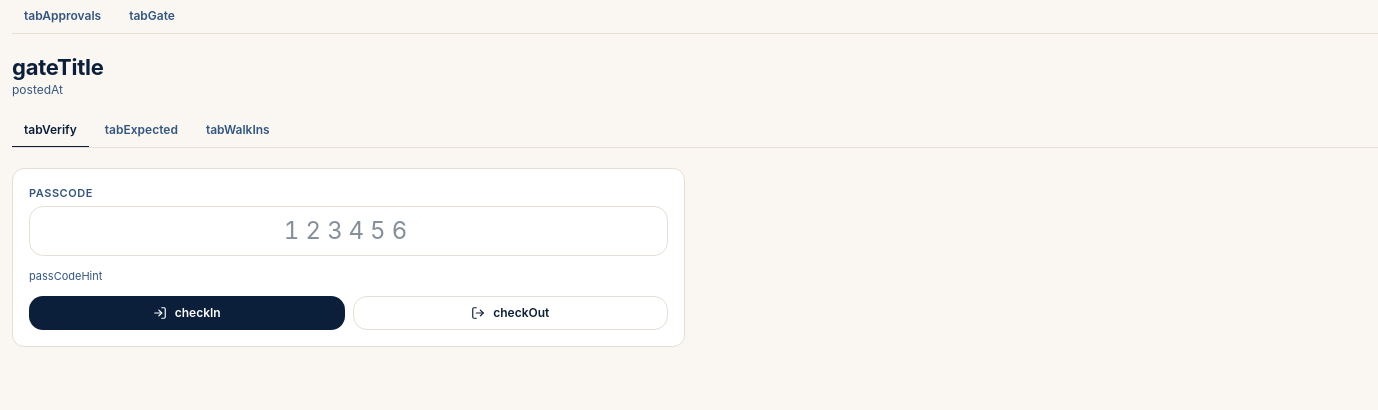
Test: Gate desk › says so when the gate is rate limited
In the field with test id "gate-code": (348, 231) [29,206,668,256], type "482913"
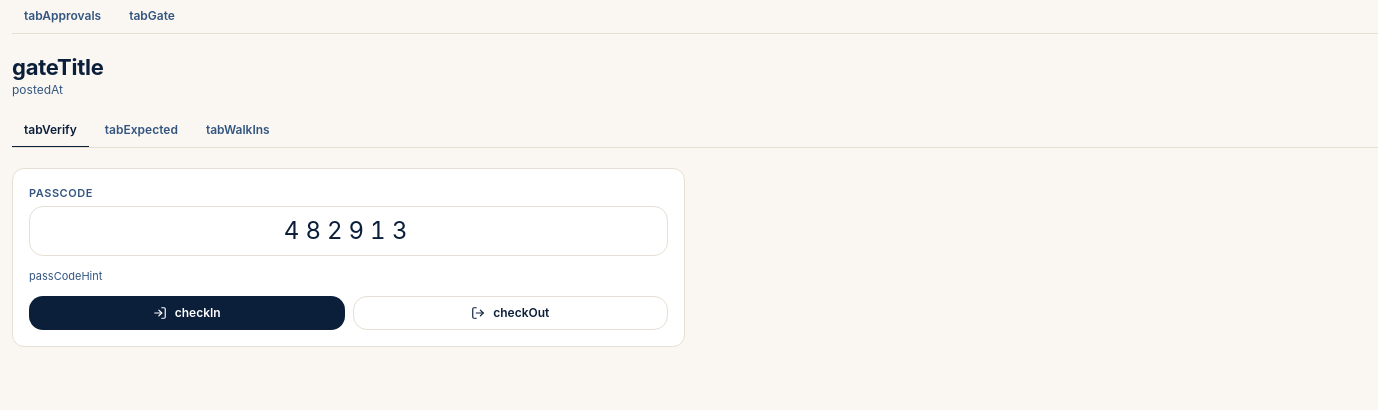
Click the button with test id "gate-check-in": (187, 313) [29,296,344,330]
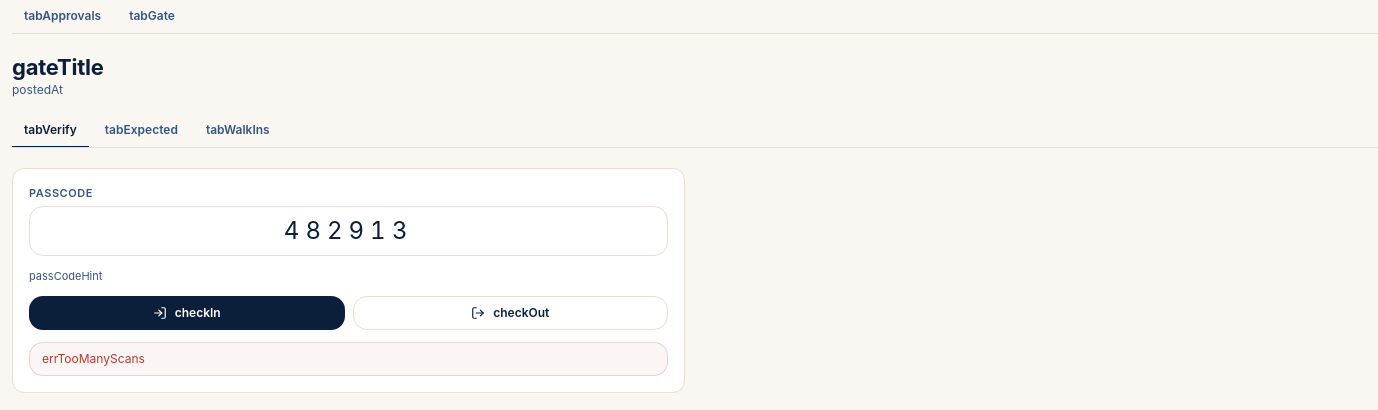
Expected: the message with test id "gate-scan-error" reads "errTooManyScans", [42,351,145,366]
